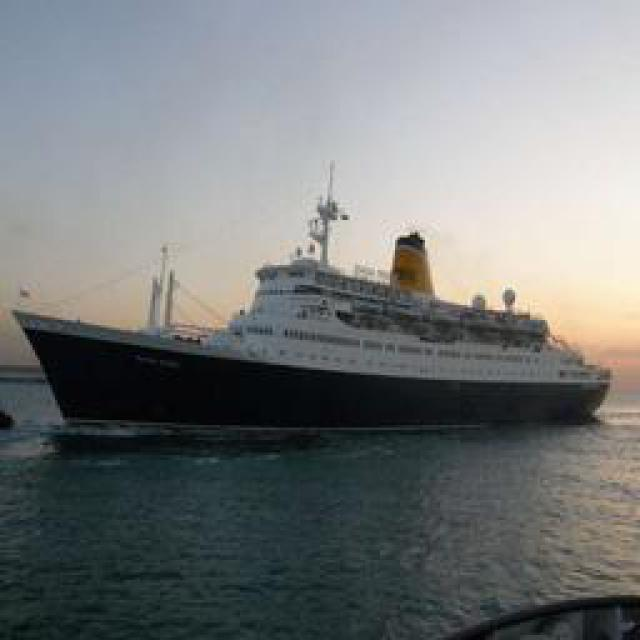Ship: (22, 174, 615, 427)
